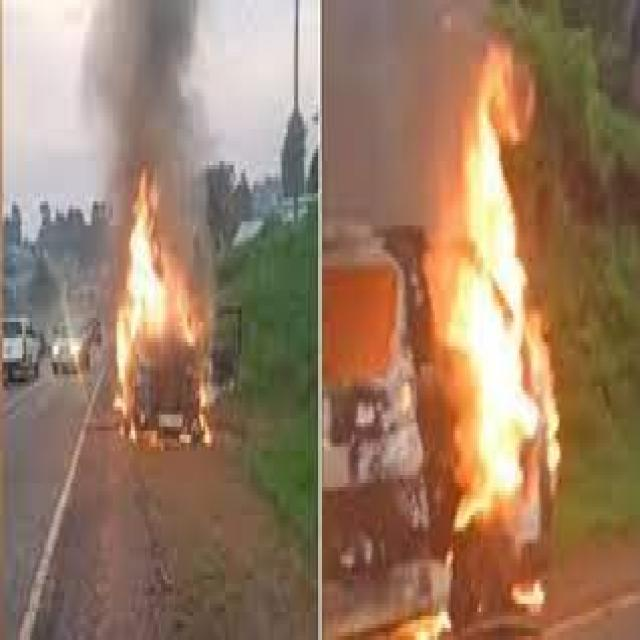fire: (426, 48, 562, 540), (113, 165, 215, 455)
smoke: (80, 4, 216, 310)
